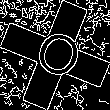O_S: (26, 23, 84, 87)
